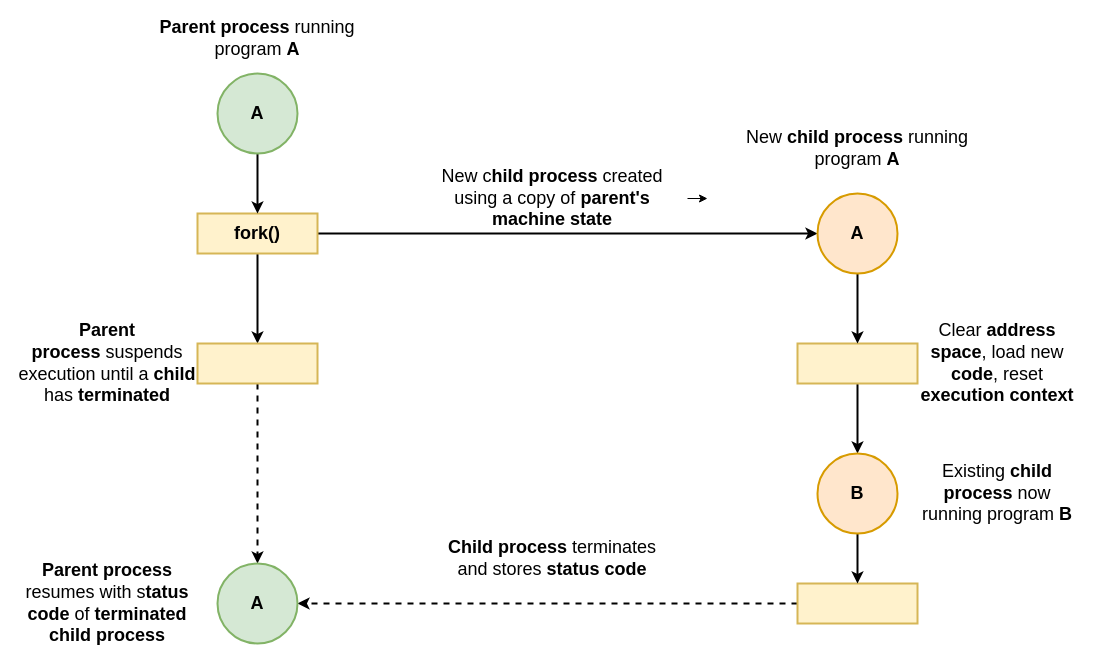
The diagram is 1094 pixels wide and 664 high, and some of its shapes have lost their labels. Here are the shapes that lost their labels. From the top down, the box of each, then its label:
(196, 342, 318, 384): wait()
(796, 342, 918, 384): exec()
(796, 582, 918, 624): exit()
